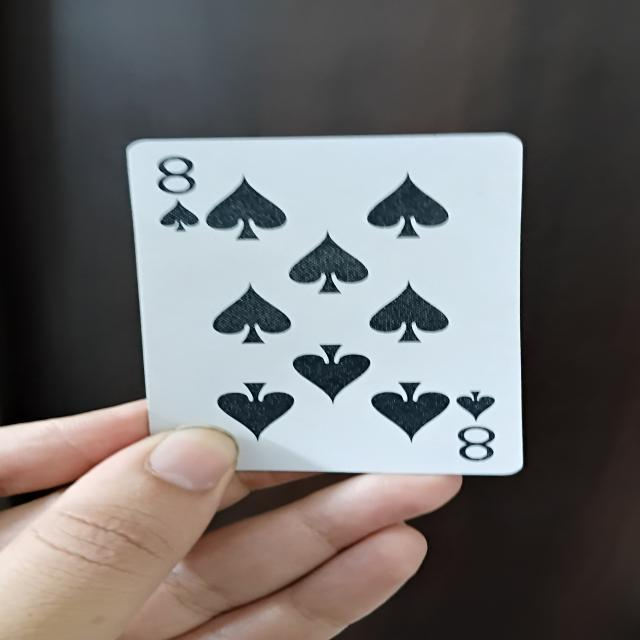8S: (117, 127, 532, 477)
